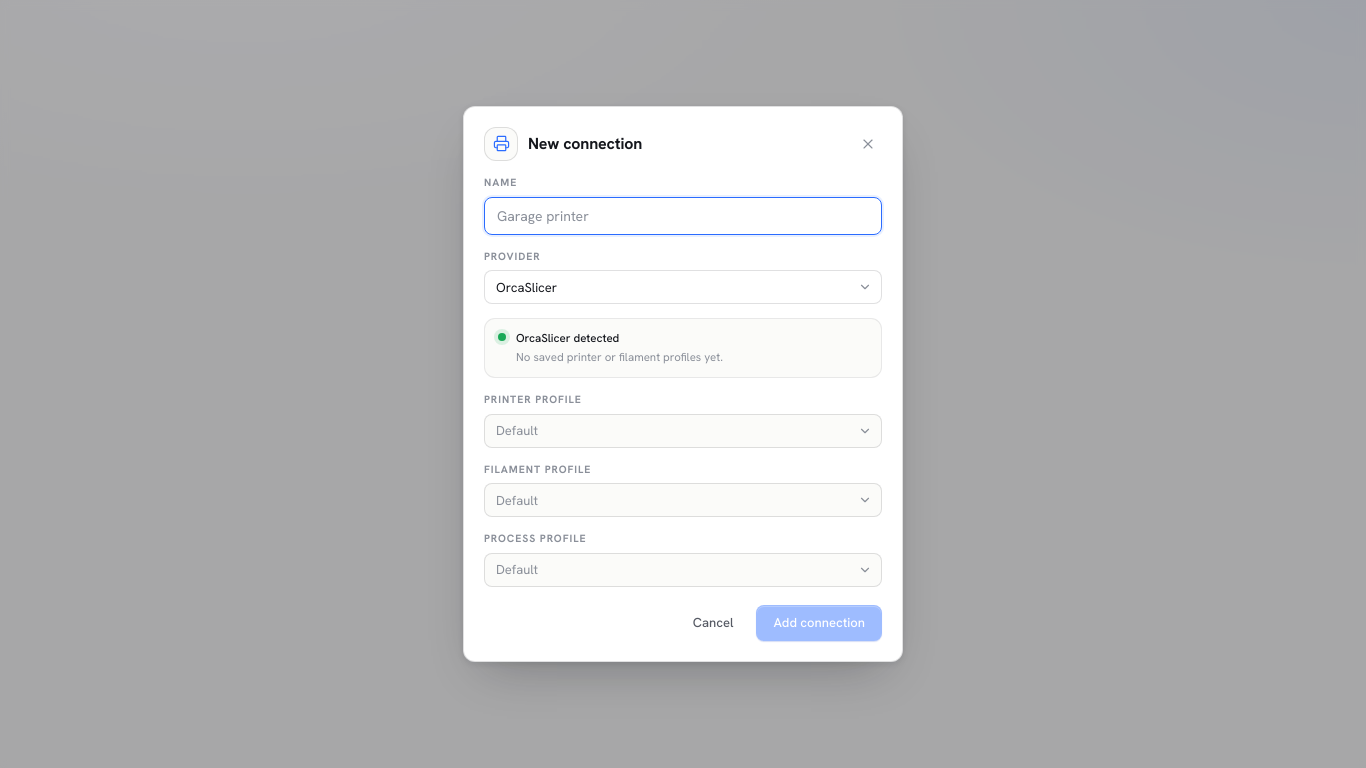
Scenario: ConnectionEditor › blocks a duplicate connection name (case-insensitive)
Expected: the heading "New connection" is shown, [528,132,642,156]
Type "garage PRINTER" into the field with placeholder "Garage printer" at (683, 216), box [484,197,882,235]
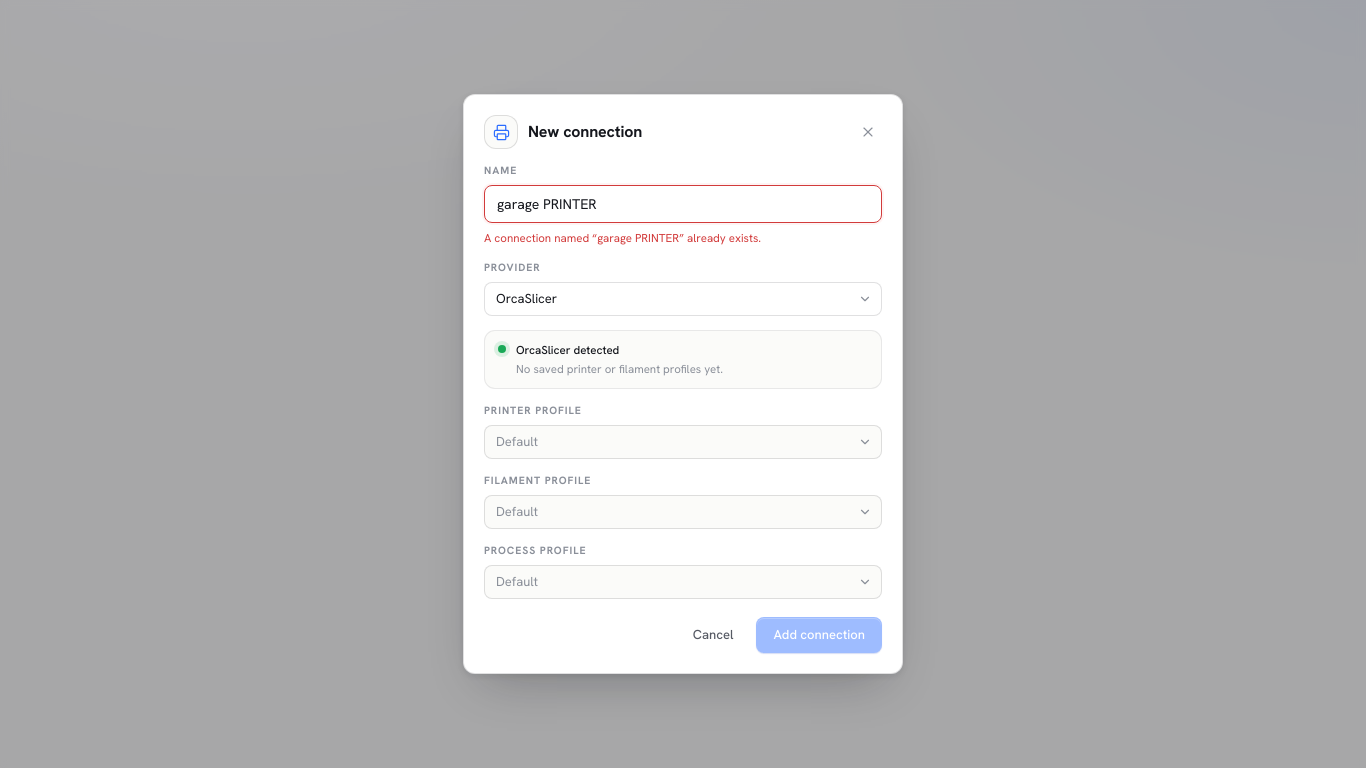
Expected: the button "Add connection" is disabled, [756,617,882,653]
Expected: the text "A connection named “garage PRINTER” already exists." is shown, [484,230,761,245]
